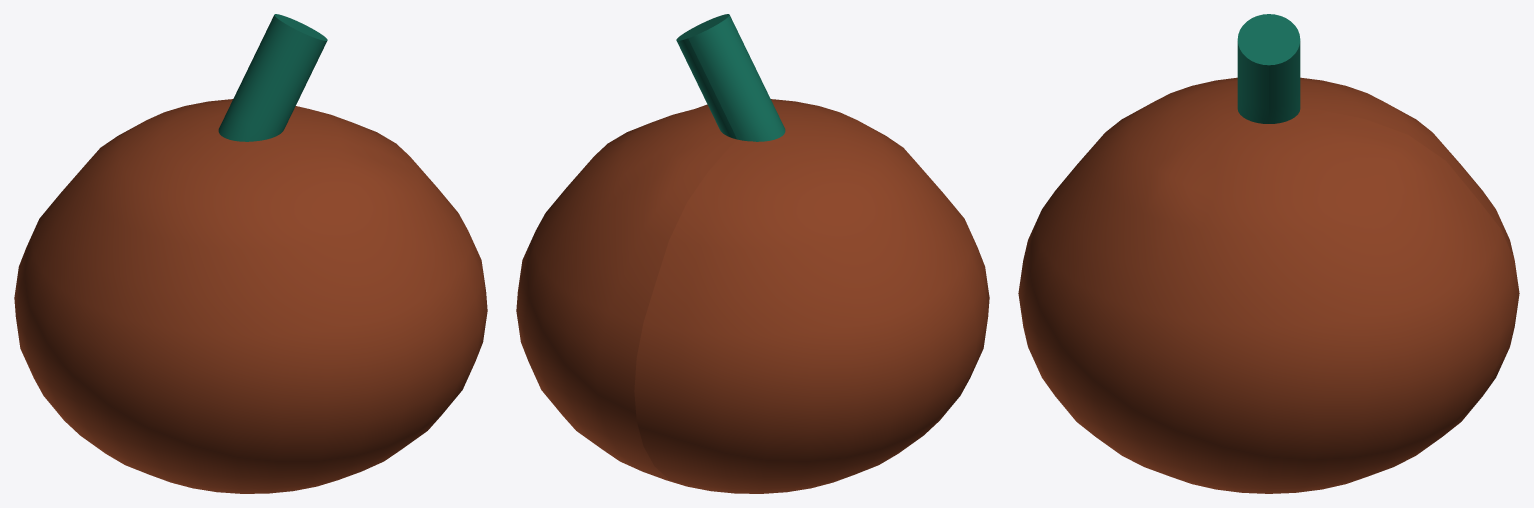
3 renders of one model, left to right at view 1: azimuth 30°, elevation 25°; view 2: azimuth 150°, elevation 25°; view 3: azimuth 270°, elevation 25°, orthographic. The views are drawn at different scales.
Parts seen in each view (by area): view 1: SM_BLOCKOUT_Pumpkin_LOD0; view 2: SM_BLOCKOUT_Pumpkin_LOD0; view 3: SM_BLOCKOUT_Pumpkin_LOD0.
Part boxes in pixels (x1=…): SM_BLOCKOUT_Pumpkin_LOD0: x1=14, y1=14, x2=487, y2=493; SM_BLOCKOUT_Pumpkin_LOD0: x1=516, y1=14, x2=989, y2=493; SM_BLOCKOUT_Pumpkin_LOD0: x1=1018, y1=14, x2=1519, y2=493.
Bounding box in the file's own units: 0.8 × 0.8176 × 0.8.
